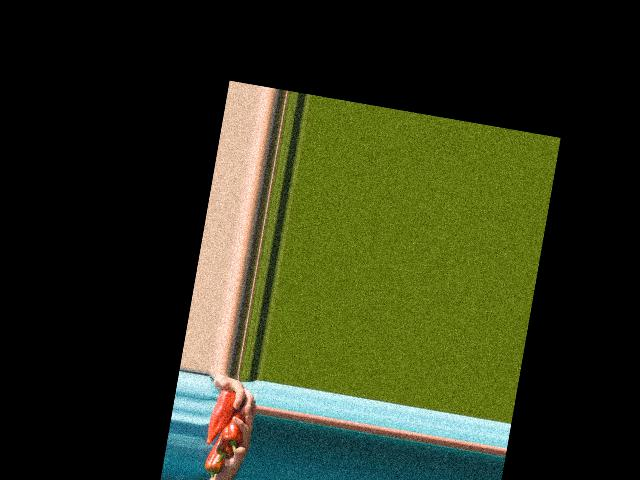bell_pepper: (203, 439, 229, 479)
